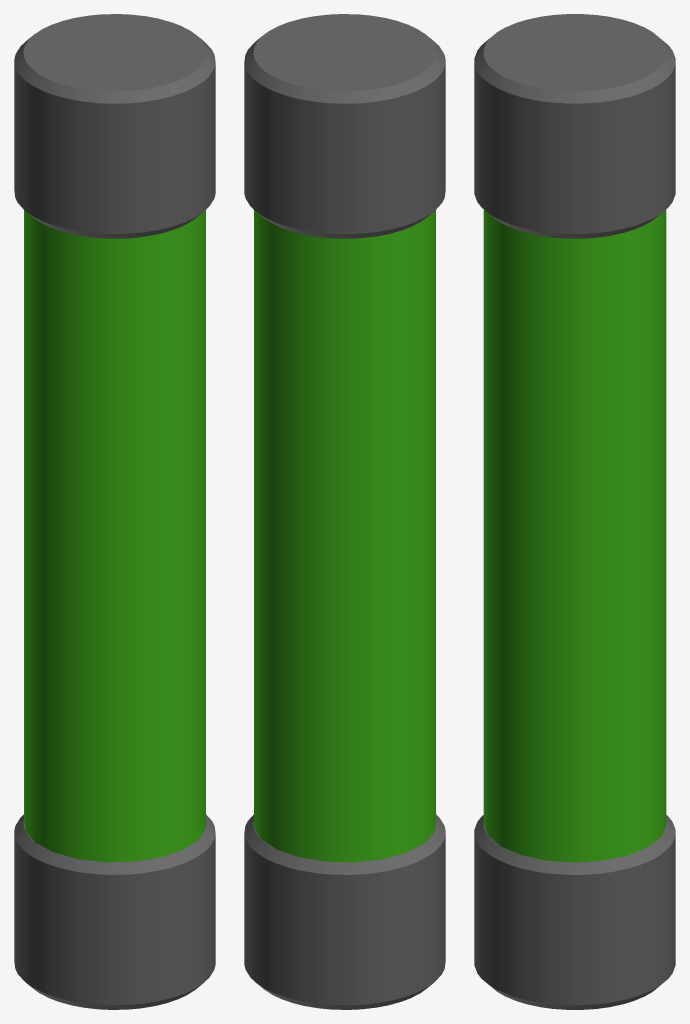
The model's file is GreenGlowstickV1.fbx.
3 views of the same model, side by side, from view 1: azimuth 30°, elevation 25°; view 2: azimuth 150°, elevation 25°; view 3: azimuth 270°, elevation 25° (orthographic).
Parts seen in each view (by area): view 1: GreenGlowstick; view 2: GreenGlowstick; view 3: GreenGlowstick.
Part boxes in pixels (x1,y1,x2,y2): GreenGlowstick: (14, 14, 215, 1009); GreenGlowstick: (244, 14, 445, 1009); GreenGlowstick: (474, 14, 675, 1009).
Size of the model in its own units: 2.87 by 14.48 by 2.87.
